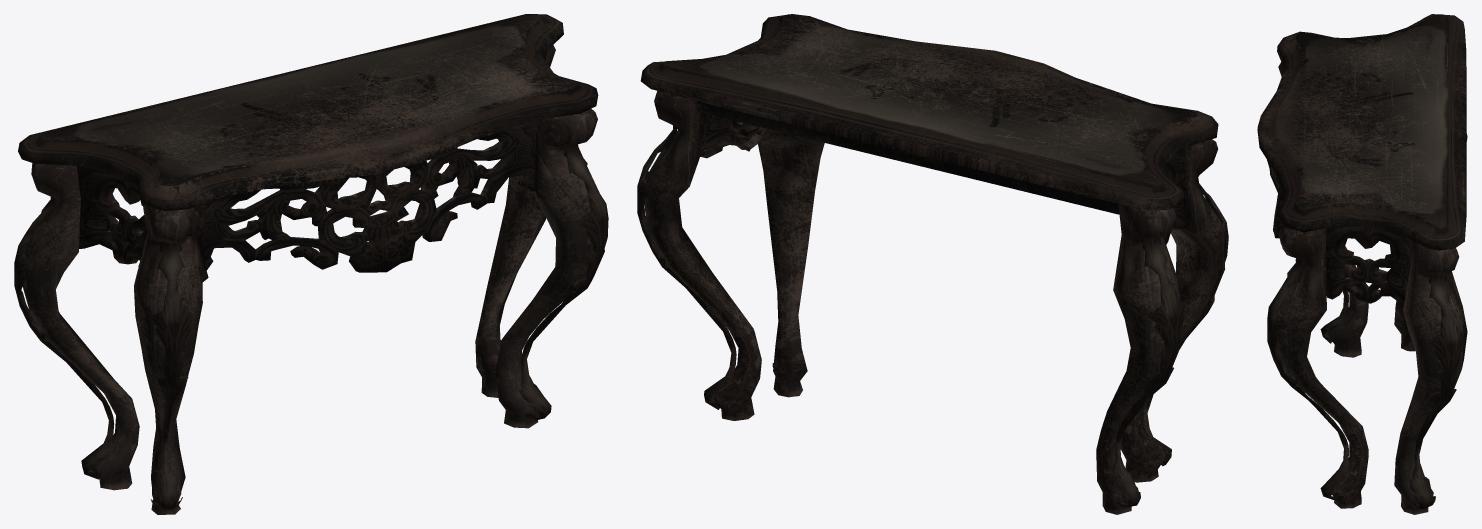
Rendered from ClassicConsole_01_1k_LOD1.fbx.
The picture shows the model from 3 angles, left to right: view 1: azimuth 30°, elevation 25°; view 2: azimuth 150°, elevation 25°; view 3: azimuth 270°, elevation 25°; orthographic projection. The views are drawn at different scales.
Parts seen in each view (by area): view 1: ClassicConsole_01; view 2: ClassicConsole_01; view 3: ClassicConsole_01.
Boxes of the visible parts, <box> form: ClassicConsole_01: <box>14,14,608,514</box>; ClassicConsole_01: <box>637,14,1228,514</box>; ClassicConsole_01: <box>1257,14,1467,514</box>.
Bounding box in the file's own units: 154 × 94.91 × 58.9.
